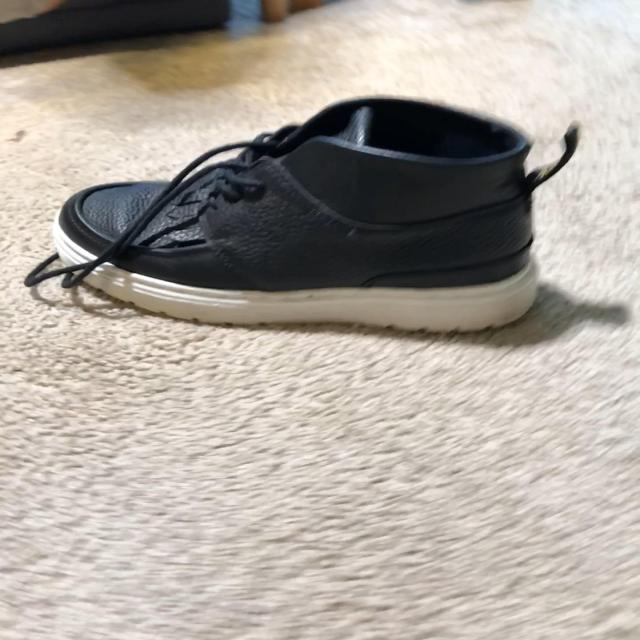shoe: (26, 96, 575, 340)
